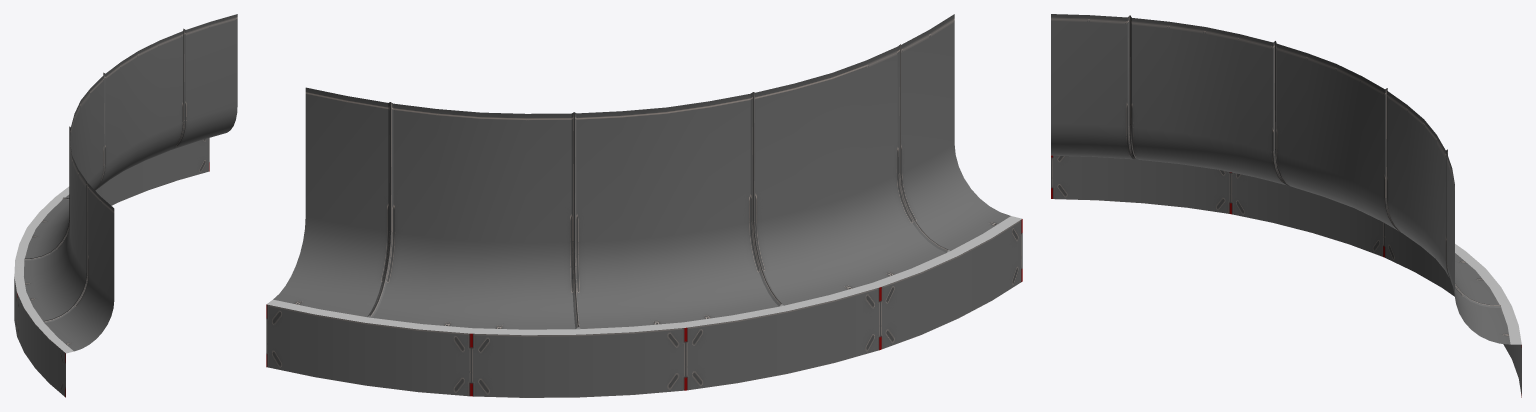
File: top_plastic_corner_round_inner.glb
The picture shows the model from 3 angles, left to right: view 1: azimuth 30°, elevation 25°; view 2: azimuth 150°, elevation 25°; view 3: azimuth 270°, elevation 25°; orthographic projection. The views are drawn at different scales.
Visible parts, largest first — view 1: TopPlastic_Corner_Round_Inner; view 2: TopPlastic_Corner_Round_Inner; view 3: TopPlastic_Corner_Round_Inner.
Boxes of the visible parts, left/top/right/bottom form: TopPlastic_Corner_Round_Inner: left=14, top=14, right=237, bottom=397; TopPlastic_Corner_Round_Inner: left=266, top=14, right=1022, bottom=397; TopPlastic_Corner_Round_Inner: left=1051, top=14, right=1521, bottom=397.
Size of the model in its own units: 4 by 2.02 by 4.
3 materials, 3 textured.
